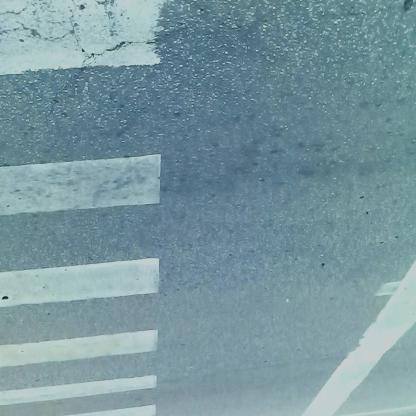crosswalk: (1, 14, 176, 416)
